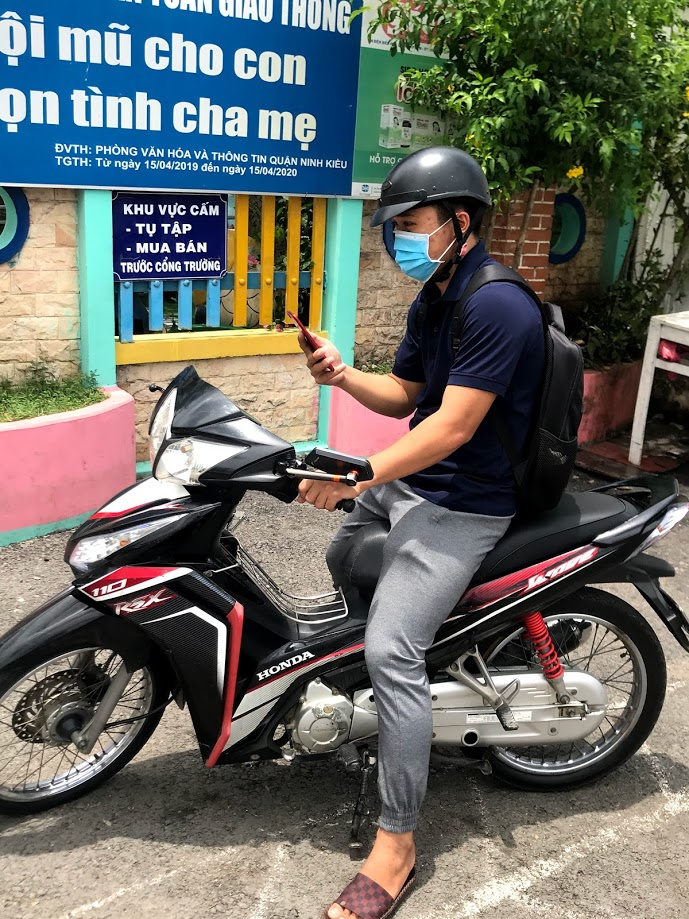dieu khien xe may: (64, 143, 538, 690)
su dung dien thoai: (282, 147, 492, 387)
